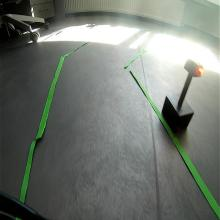red: (184, 57, 205, 79)
